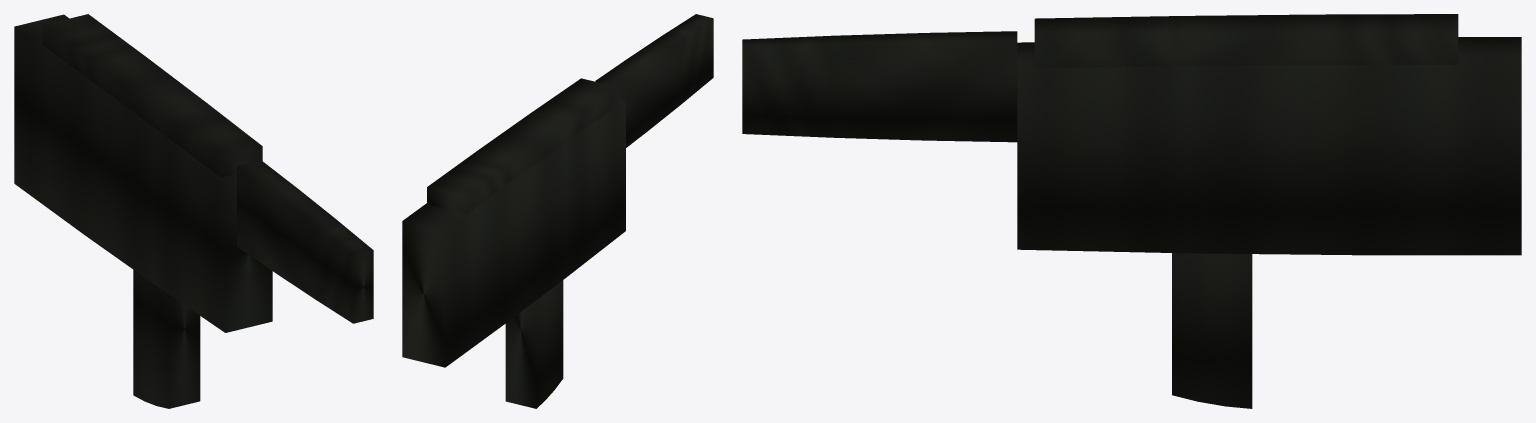
The model's file is wpn_g36c_commando.glb.
The picture shows the model from 3 angles, left to right: view 1: azimuth 30°, elevation 25°; view 2: azimuth 150°, elevation 25°; view 3: azimuth 270°, elevation 25°; orthographic projection. The views are drawn at different scales.
Visible parts, largest first — view 1: SubMesh_0_Receiver, SubMesh_3_BarrelSight, SubMesh_1_Action, SubMesh_2_Magazine; view 2: SubMesh_0_Receiver, SubMesh_1_Action, SubMesh_3_BarrelSight, SubMesh_2_Magazine; view 3: SubMesh_0_Receiver, SubMesh_3_BarrelSight, SubMesh_1_Action, SubMesh_2_Magazine.
Boxes of the visible parts, x1=… form: SubMesh_0_Receiver: x1=14, y1=14, x2=272, y2=332; SubMesh_3_BarrelSight: x1=237, y1=160, x2=373, y2=323; SubMesh_1_Action: x1=42, y1=14, x2=262, y2=177; SubMesh_2_Magazine: x1=133, y1=270, x2=200, y2=408; SubMesh_0_Receiver: x1=402, y1=99, x2=625, y2=367; SubMesh_1_Action: x1=427, y1=78, x2=617, y2=214; SubMesh_3_BarrelSight: x1=595, y1=14, x2=713, y2=147; SubMesh_2_Magazine: x1=505, y1=280, x2=563, y2=408; SubMesh_0_Receiver: x1=1017, y1=37, x2=1521, y2=255; SubMesh_3_BarrelSight: x1=742, y1=31, x2=1017, y2=142; SubMesh_1_Action: x1=1034, y1=14, x2=1458, y2=68; SubMesh_2_Magazine: x1=1172, y1=253, x2=1252, y2=408.
Size of the model in its own units: 0.06 by 0.3574 by 0.68.
Materials: 1 (1 with a texture image).
